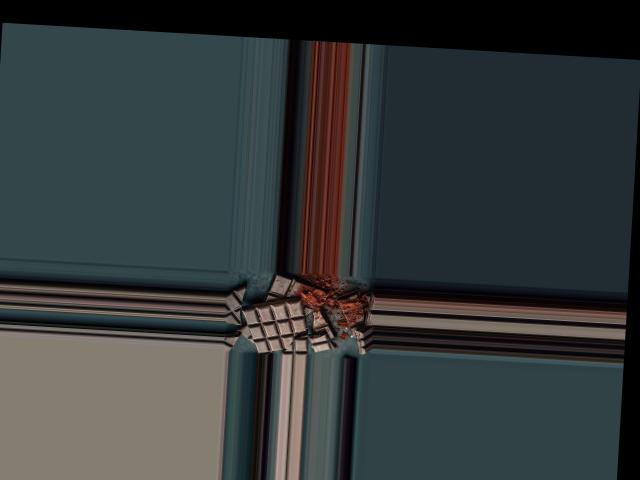chocolate: (238, 295, 307, 355)
